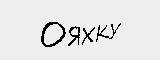К: (94, 22, 109, 46)
О: (39, 19, 65, 50)
У: (107, 20, 120, 41)
Х: (80, 23, 95, 46)
Я: (66, 24, 82, 48)
